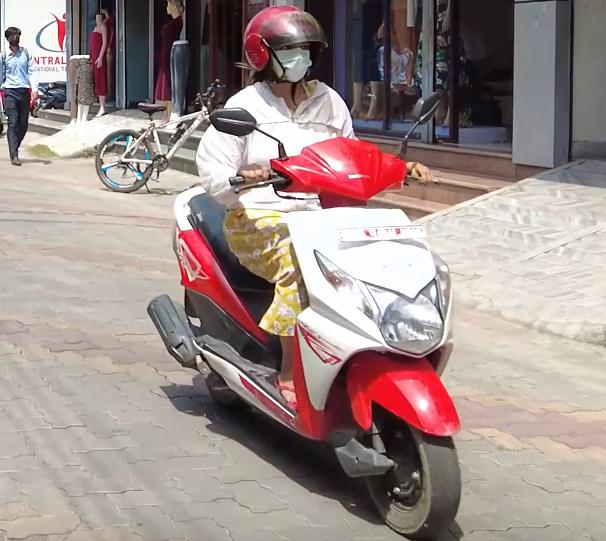scooter: (142, 93, 483, 541)
